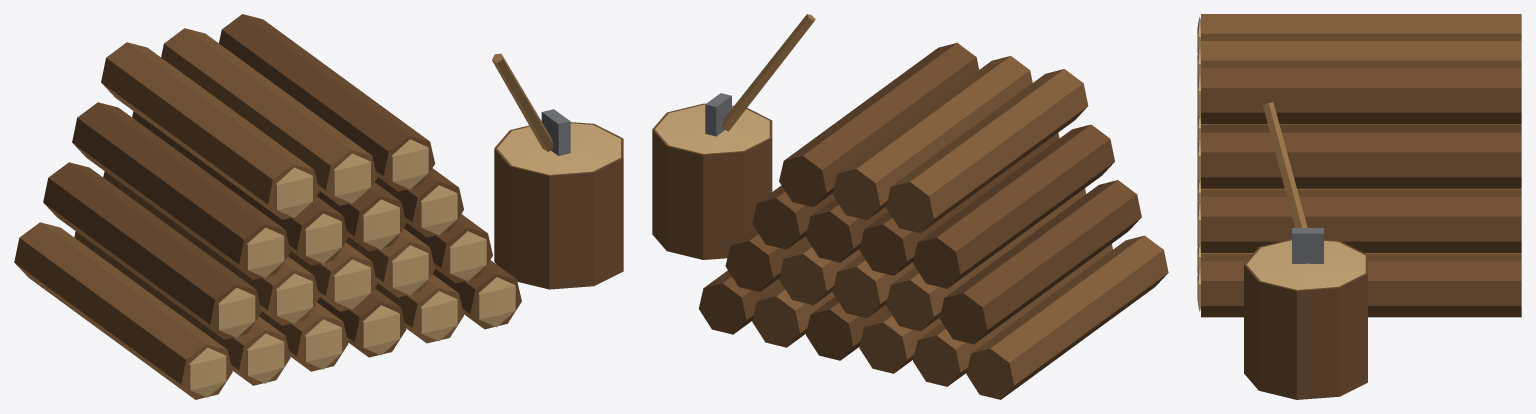
Rendered from Yard_Firewood.obj.
3 views of the same model, side by side, from view 1: azimuth 30°, elevation 25°; view 2: azimuth 150°, elevation 25°; view 3: azimuth 270°, elevation 25° (orthographic). The views are drawn at different scales.
Visible parts, largest first — view 1: Yard_Firewood; view 2: Yard_Firewood; view 3: Yard_Firewood.
Part boxes in pixels (box(x1,y1,x2,y2)): Yard_Firewood: box(14, 14, 623, 399); Yard_Firewood: box(652, 14, 1168, 399); Yard_Firewood: box(1197, 14, 1521, 399).
Bounding box in the file's own units: 2.04 × 0.9623 × 1.21.
